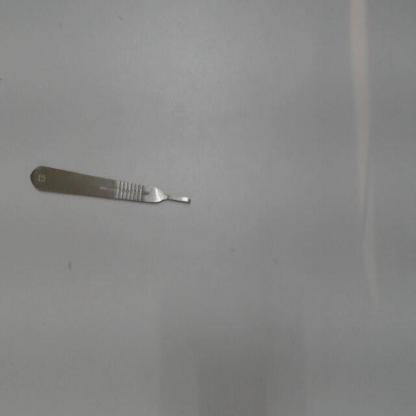No.3 BP Handle: (26, 160, 196, 219)
